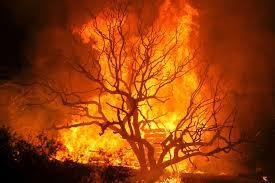fire: (47, 8, 245, 166)
